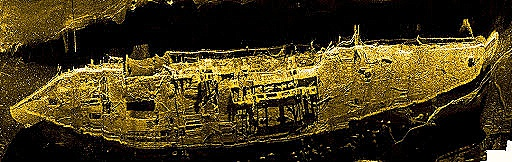ship: (9, 17, 499, 149)
